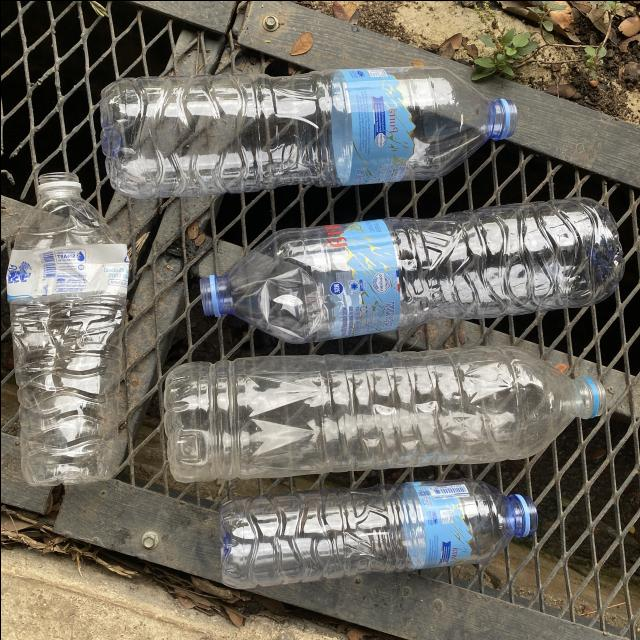plastik: (200, 197, 623, 343), (163, 345, 604, 481), (99, 66, 516, 197), (6, 173, 128, 485), (218, 478, 536, 588)
